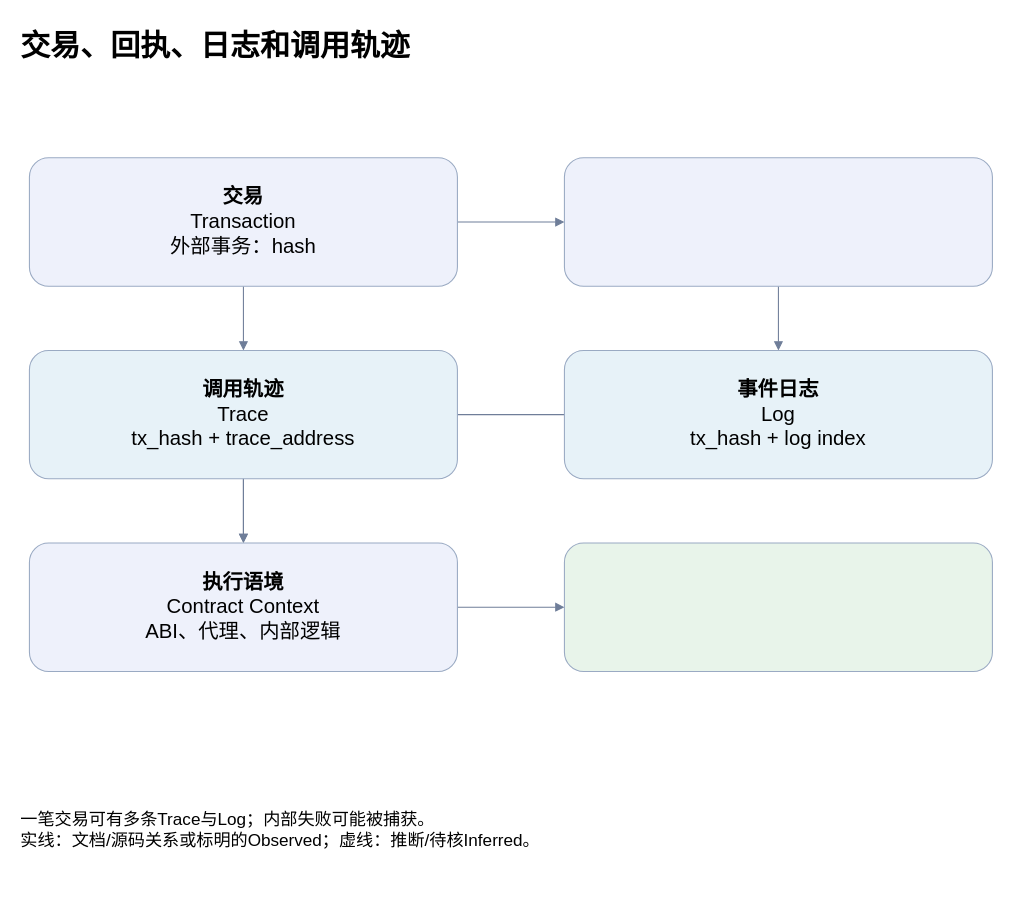
Image size: 1021x908. Some labels were removed from this diagram. Here are the shapes that lost their labels. From the top down, the centre of each, then its label:
(777,221): 回执 Receipt 状态、Gas、日志
(777,606): 业务解释 Economic Interpretation 不能直接按行数认定行为
